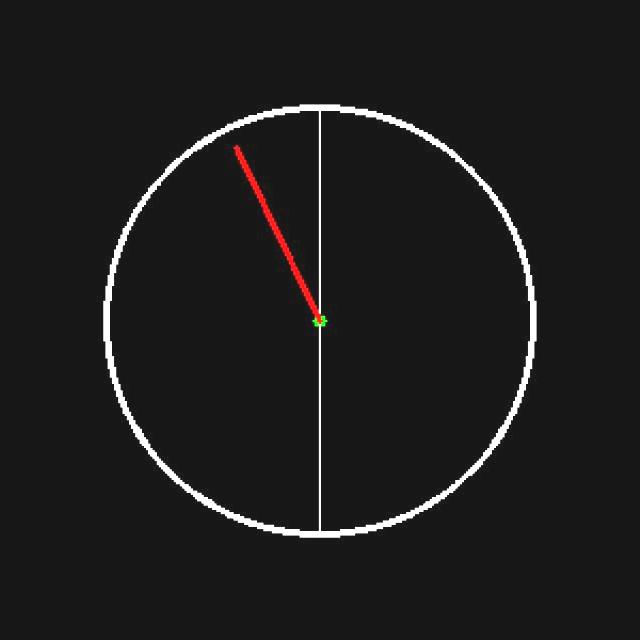Needle_Tip: (225, 136, 250, 174)
Needle_base: (297, 299, 345, 343)
